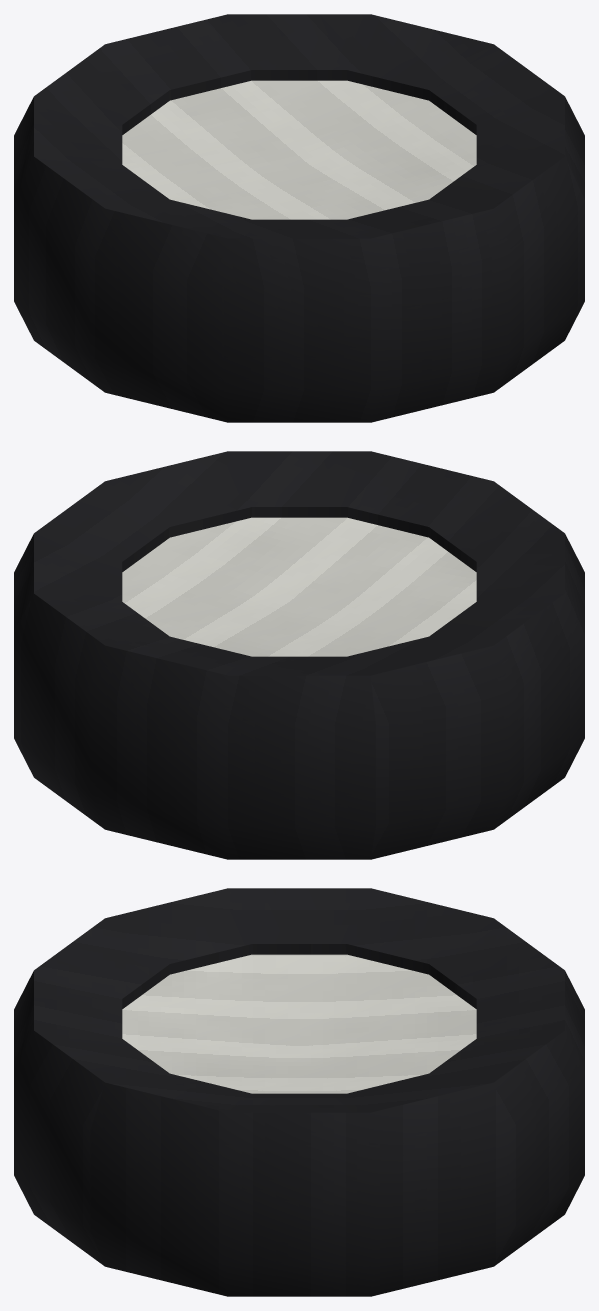
Rendered from roda_rali.glb.
3 views of the same model, one above another, from view 1: azimuth 30°, elevation 25°; view 2: azimuth 150°, elevation 25°; view 3: azimuth 270°, elevation 25° (orthographic).
Visible parts, largest first — view 1: Inteiro; view 2: Inteiro; view 3: Inteiro.
Boxes of the visible parts, x1=… form: Inteiro: x1=14, y1=14, x2=584, y2=422; Inteiro: x1=14, y1=451, x2=584, y2=859; Inteiro: x1=14, y1=888, x2=584, y2=1296.
Bounding box in the file's own units: 0.6182 × 0.22 × 0.6182.
Materials: 1 (1 with a texture image).
